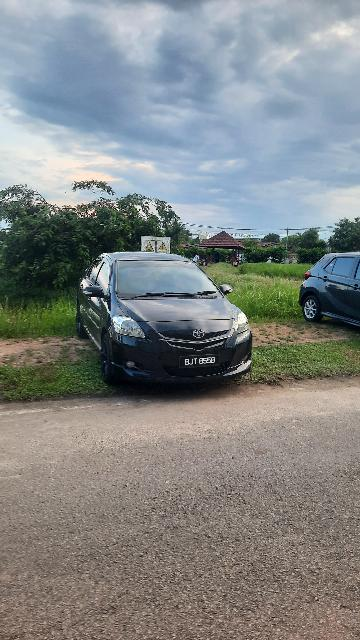License_Plate: (179, 355, 225, 368)
car: (75, 252, 257, 388)
